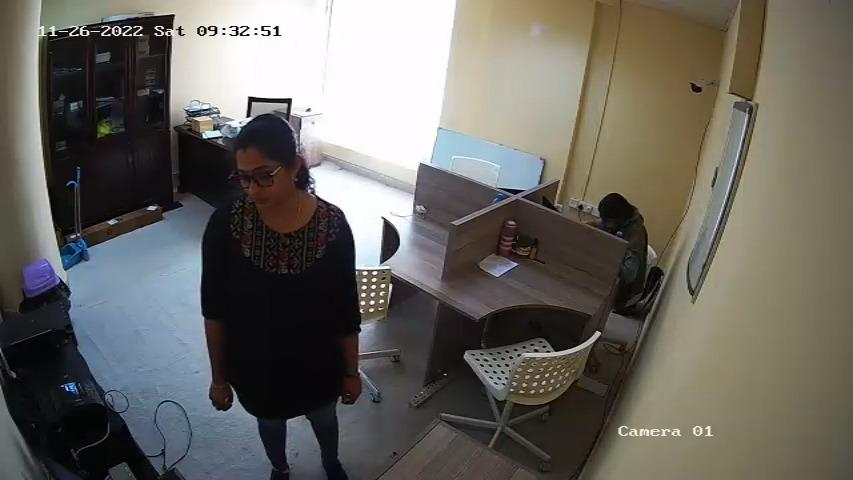no_apron: (228, 201, 331, 406)
